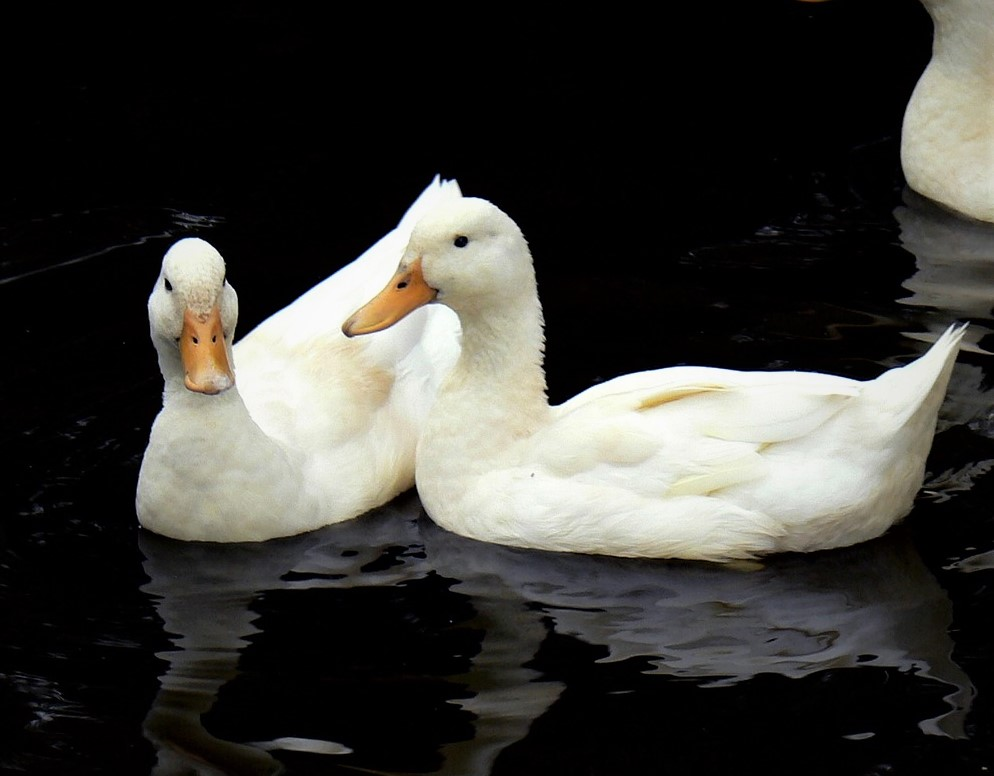Mencari Makan di Lumpur: (334, 261, 437, 341), (175, 312, 237, 400)
